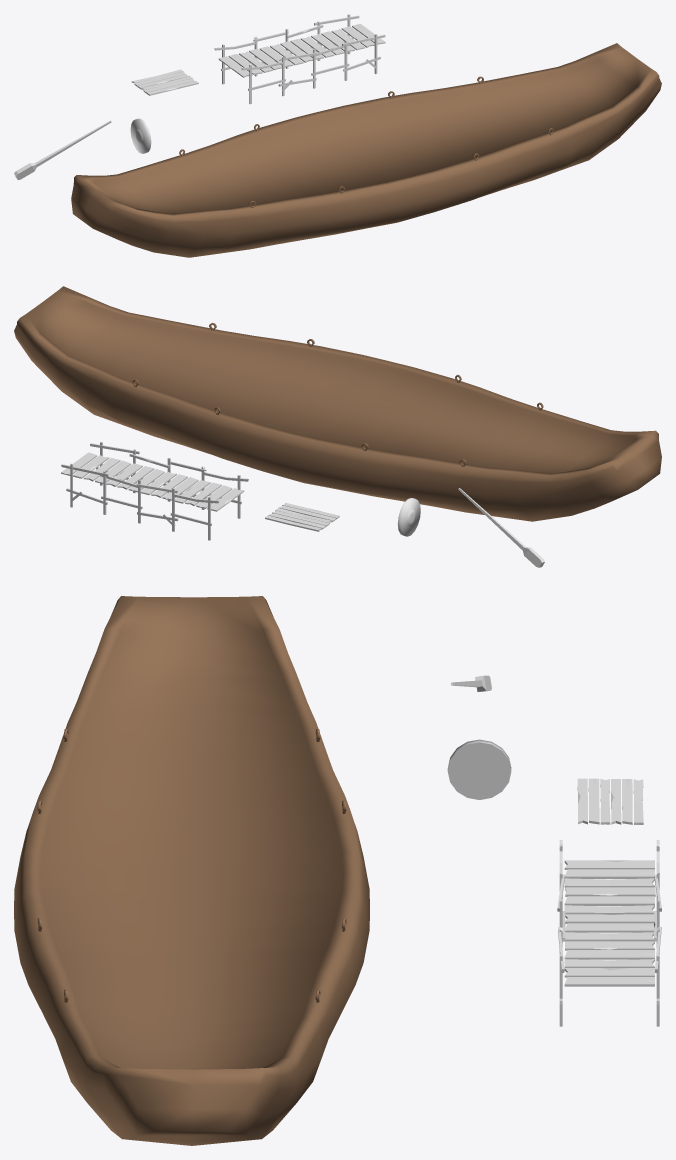
Rendered from ship dock.shild.fbx.
3 views of the same model, one above another, from view 1: azimuth 30°, elevation 25°; view 2: azimuth 150°, elevation 25°; view 3: azimuth 270°, elevation 25° (orthographic). The views are drawn at different scales.
Parts seen in each view (by area): view 1: ship, dock, wood, shild, spoon; view 2: ship, dock, wood, shild, spoon; view 3: ship, dock, shild, wood.
Boxes of the visible parts, x1,y1,x2,y2 form: ship: (71, 43, 661, 257); dock: (214, 14, 385, 104); wood: (131, 69, 198, 95); shild: (130, 118, 151, 153); spoon: (14, 120, 111, 179); ship: (14, 286, 661, 521); dock: (61, 442, 248, 540); wood: (265, 503, 339, 531); shild: (397, 498, 420, 536); spoon: (458, 488, 544, 567); ship: (14, 596, 369, 1145); dock: (557, 840, 661, 1026); shild: (447, 739, 511, 799); wood: (577, 778, 643, 824).
Bounding box in the file's own units: 3520 × 470 × 1945.
